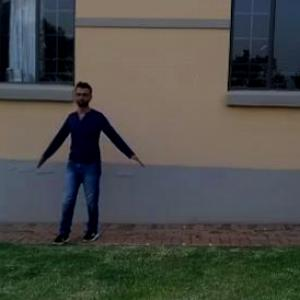land: (37, 86, 141, 246)
